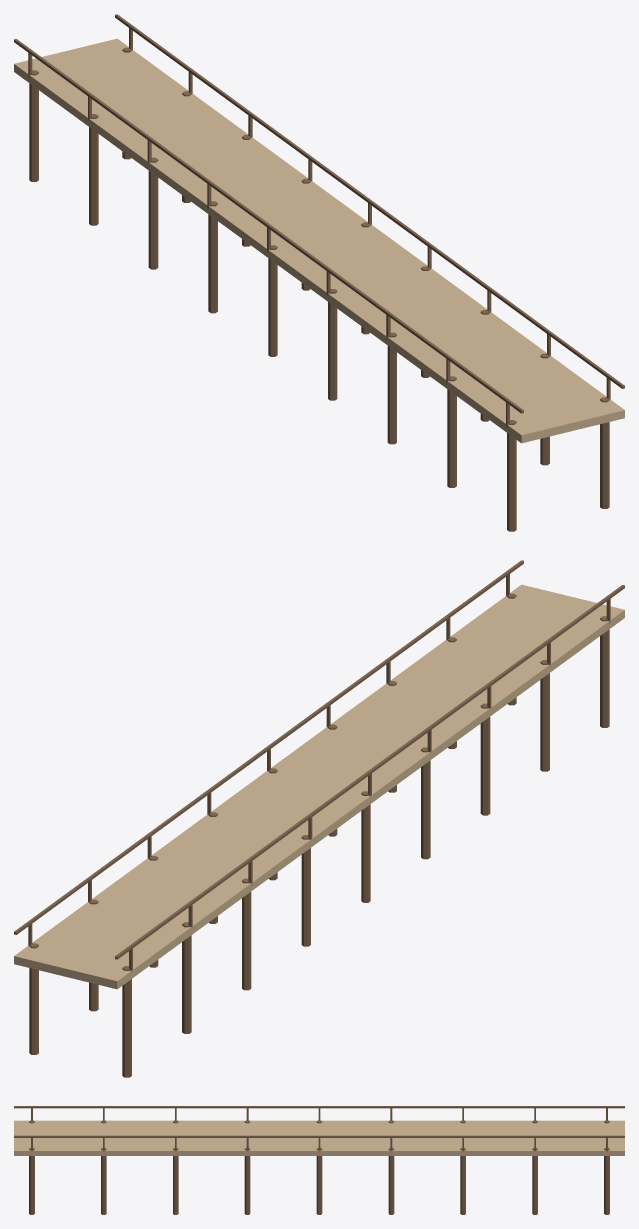
Rendered from pier.glb.
The picture shows the model from 3 angles, top to bottom: view 1: azimuth 30°, elevation 25°; view 2: azimuth 150°, elevation 25°; view 3: azimuth 270°, elevation 25°; orthographic projection. The views are drawn at different scales.
Parts seen in each view (by area): view 1: pier; view 2: pier; view 3: pier.
Boxes of the visible parts, x1,y1,x2,y2 form: pier: (14, 14, 624, 531); pier: (14, 560, 624, 1077); pier: (14, 1106, 624, 1214).
Size of the model in its own units: 4 by 4.85 by 34.
